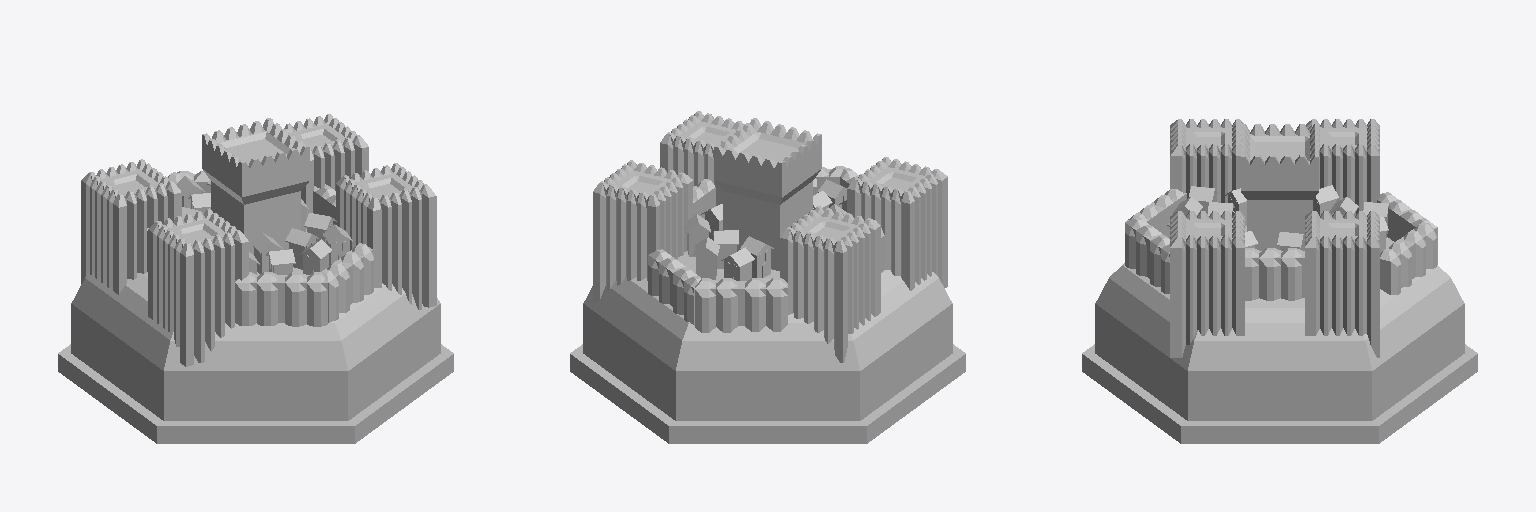
File: City.obj
3 renders of one model, left to right at view 1: azimuth 30°, elevation 25°; view 2: azimuth 150°, elevation 25°; view 3: azimuth 270°, elevation 25°, orthographic.
Visible parts, largest first — view 1: Cylinder.001, Cube.002, Cube.001, Cube.012, Cylinder, Cube.003, Cube.005, Cube, Cube.004, Cube.017, Cube.026, Cube.008 (+4 smaller); view 2: Cylinder.001, Cube.003, Cube.012, Cylinder, Cube, Cube.002, Cube.007, Cube.001, Cube.006, Cube.013, Cube.014, Cube.015 (+2 smaller); view 3: Cylinder.001, Cylinder, Cube.001, Cube, Cube.012, Cube.002, Cube.003, Cube.006, Cube.004, Cube.008, Cube.009, Cube.007 (+1 smaller).
Boxes of the visible parts, x1=… form: Cylinder.001: x1=71, y1=229, x2=440, y2=420; Cube.002: x1=148, y1=208, x2=248, y2=366; Cube.001: x1=336, y1=163, x2=436, y2=309; Cube.012: x1=202, y1=118, x2=309, y2=254; Cylinder: x1=58, y1=344, x2=453, y2=443; Cube.003: x1=81, y1=159, x2=181, y2=294; Cube.005: x1=235, y1=272, x2=327, y2=326; Cube: x1=281, y1=114, x2=368, y2=228; Cube.004: x1=322, y1=243, x2=373, y2=322; Cube.017: x1=299, y1=239, x2=331, y2=274; Cube.026: x1=323, y1=224, x2=352, y2=265; Cube.008: x1=313, y1=184, x2=335, y2=224; Cylinder.001: x1=583, y1=251, x2=952, y2=420; Cube.003: x1=780, y1=206, x2=880, y2=362; Cube.012: x1=714, y1=118, x2=821, y2=270; Cylinder: x1=570, y1=344, x2=965, y2=443; Cube: x1=593, y1=160, x2=692, y2=302; Cube.002: x1=847, y1=157, x2=947, y2=290; Cube.007: x1=695, y1=278, x2=787, y2=332; Cube.001: x1=660, y1=111, x2=749, y2=205; Cube.006: x1=648, y1=249, x2=700, y2=325; Cube.013: x1=693, y1=237, x2=719, y2=279; Cube.014: x1=740, y1=236, x2=773, y2=277; Cube.015: x1=721, y1=247, x2=754, y2=280; Cylinder.001: x1=1095, y1=226, x2=1464, y2=420; Cylinder: x1=1082, y1=344, x2=1477, y2=443; Cube.001: x1=1170, y1=211, x2=1244, y2=357; Cube: x1=1305, y1=211, x2=1379, y2=357; Cube.012: x1=1241, y1=124, x2=1318, y2=250; Cube.002: x1=1170, y1=119, x2=1243, y2=202; Cube.003: x1=1306, y1=119, x2=1379, y2=213; Cube.006: x1=1380, y1=222, x2=1436, y2=294; Cube.004: x1=1125, y1=217, x2=1169, y2=293; Cube.008: x1=1259, y1=248, x2=1304, y2=300; Cube.009: x1=1245, y1=248, x2=1280, y2=300; Cube.007: x1=1377, y1=192, x2=1437, y2=264.
Size of the model in its own units: 17.32 by 12.87 by 20.